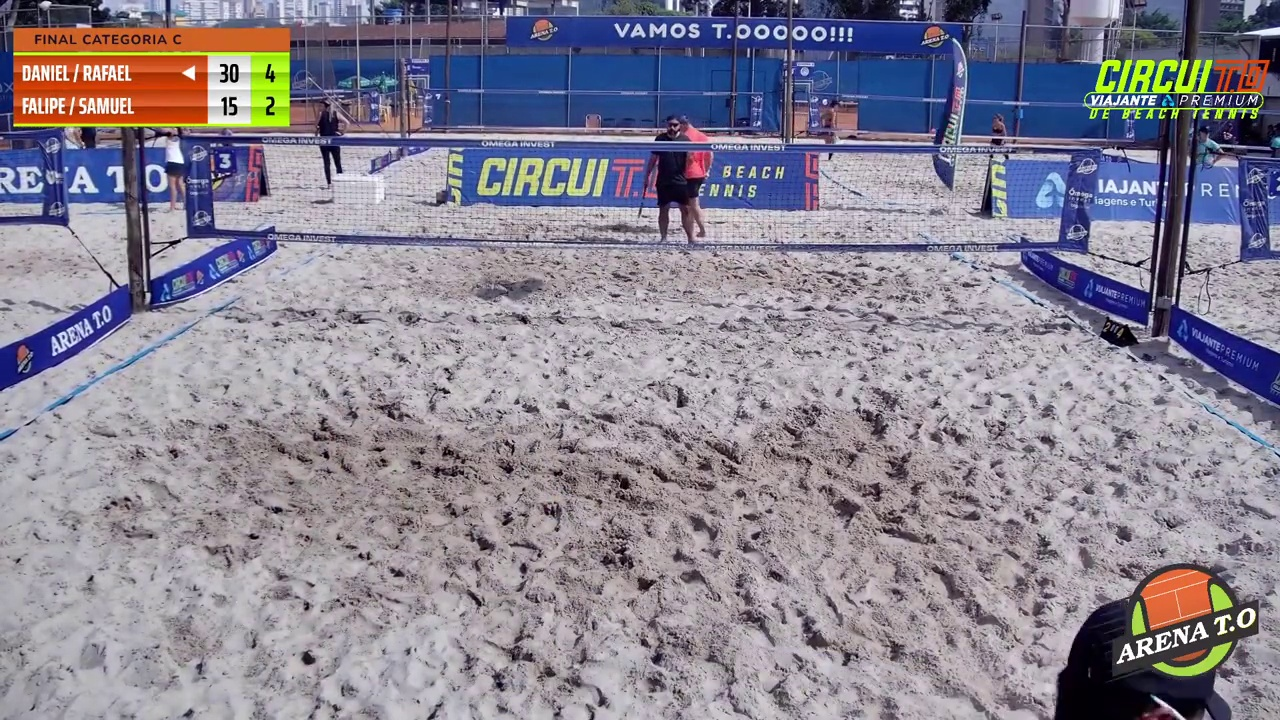court_line: (643, 0, 801, 382)
